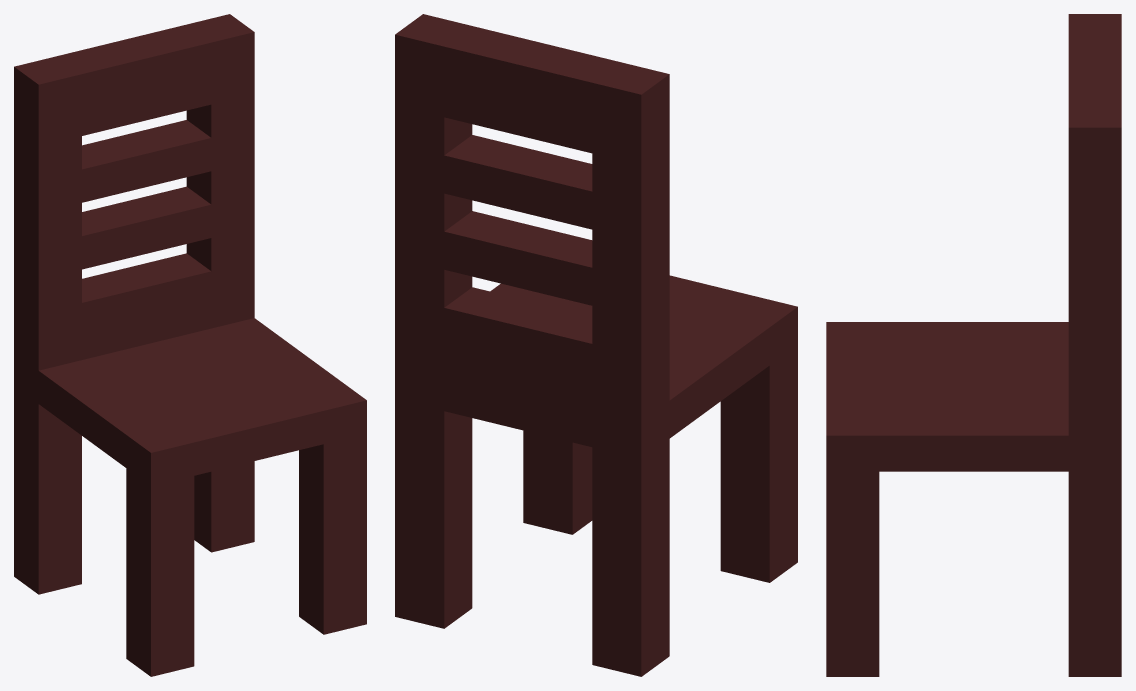
Rendered from krzeslo.FBX.
3 renders of one model, left to right at view 1: azimuth 30°, elevation 25°; view 2: azimuth 150°, elevation 25°; view 3: azimuth 270°, elevation 25°, orthographic. The views are drawn at different scales.
Parts seen in each view (by area): view 1: Box001; view 2: Box001; view 3: Box001.
Boxes of the visible parts, box(x1,y1,x2,y2) form: Box001: box(14, 14, 366, 676); Box001: box(395, 14, 797, 676); Box001: box(826, 14, 1121, 676).
Bounding box in the file's own units: 40.43 × 91.25 × 44.46.
